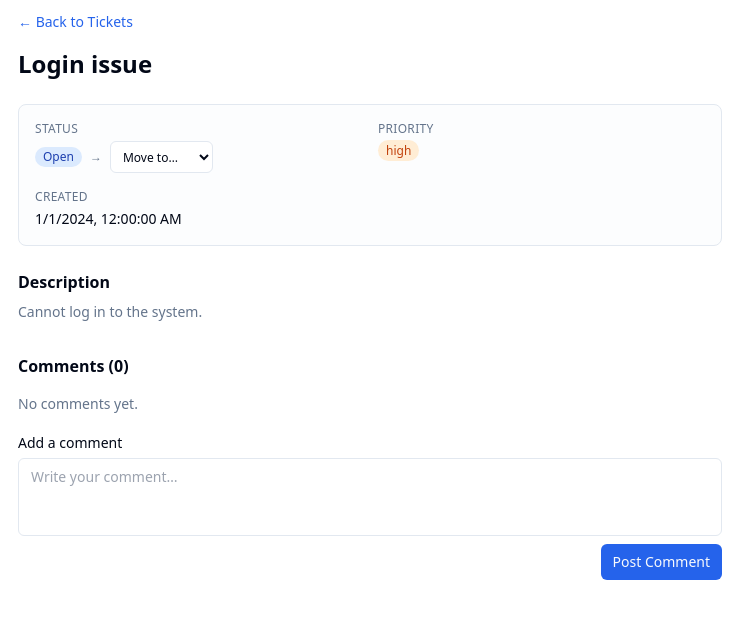
Test: TicketDetail › shows validation error when submitting empty comment
The width and height of the screenshot is (741, 621).
Click the button "Post Comment". click: x=661, y=562
box: [600,544,722,580]
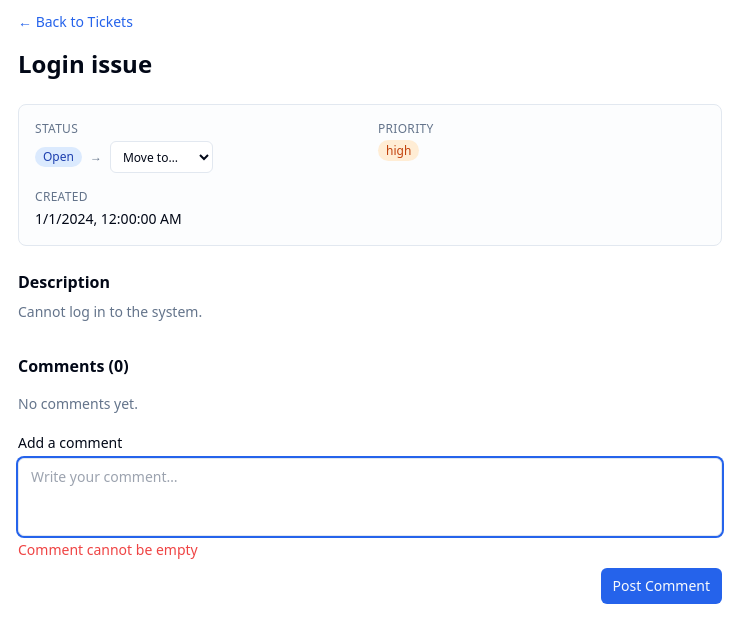
Result: the text "Comment cannot be empty" is shown at [18,540,198,559]
